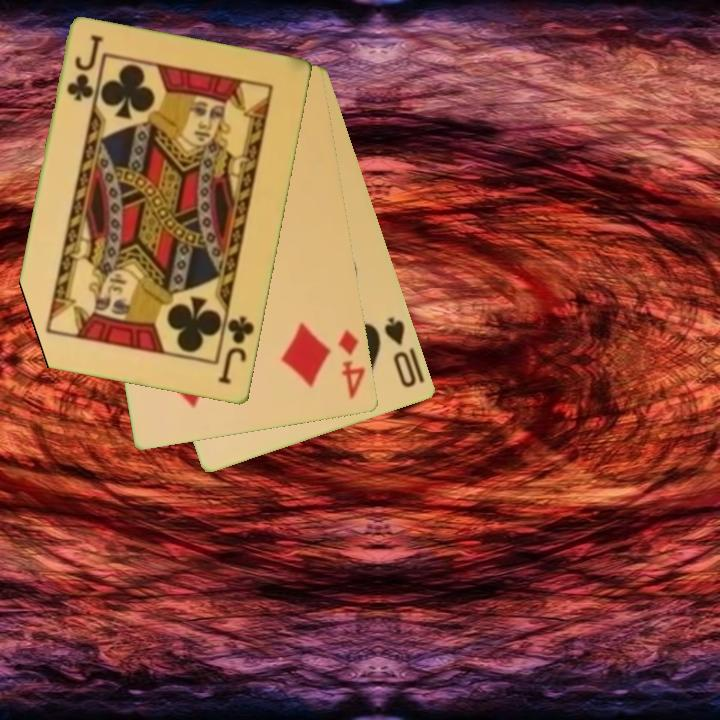10s: (381, 313, 420, 391)
4d: (335, 325, 369, 403)
Jc: (215, 313, 258, 388), (63, 32, 105, 105)
